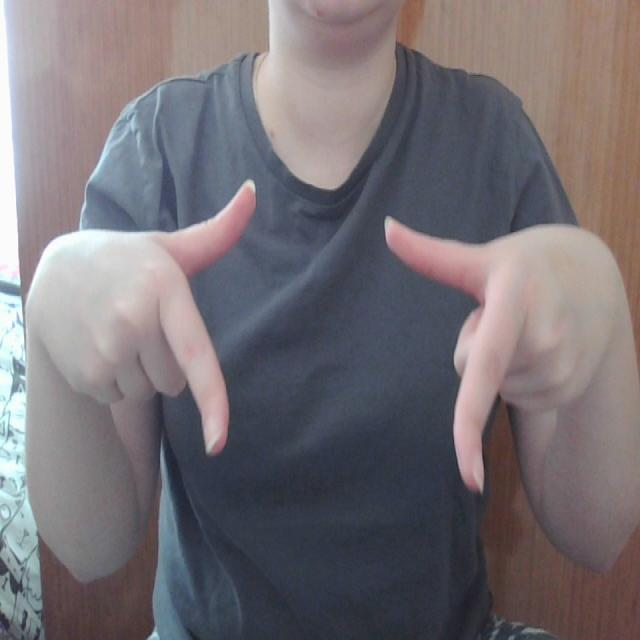Nerede: (153, 175, 537, 499)
